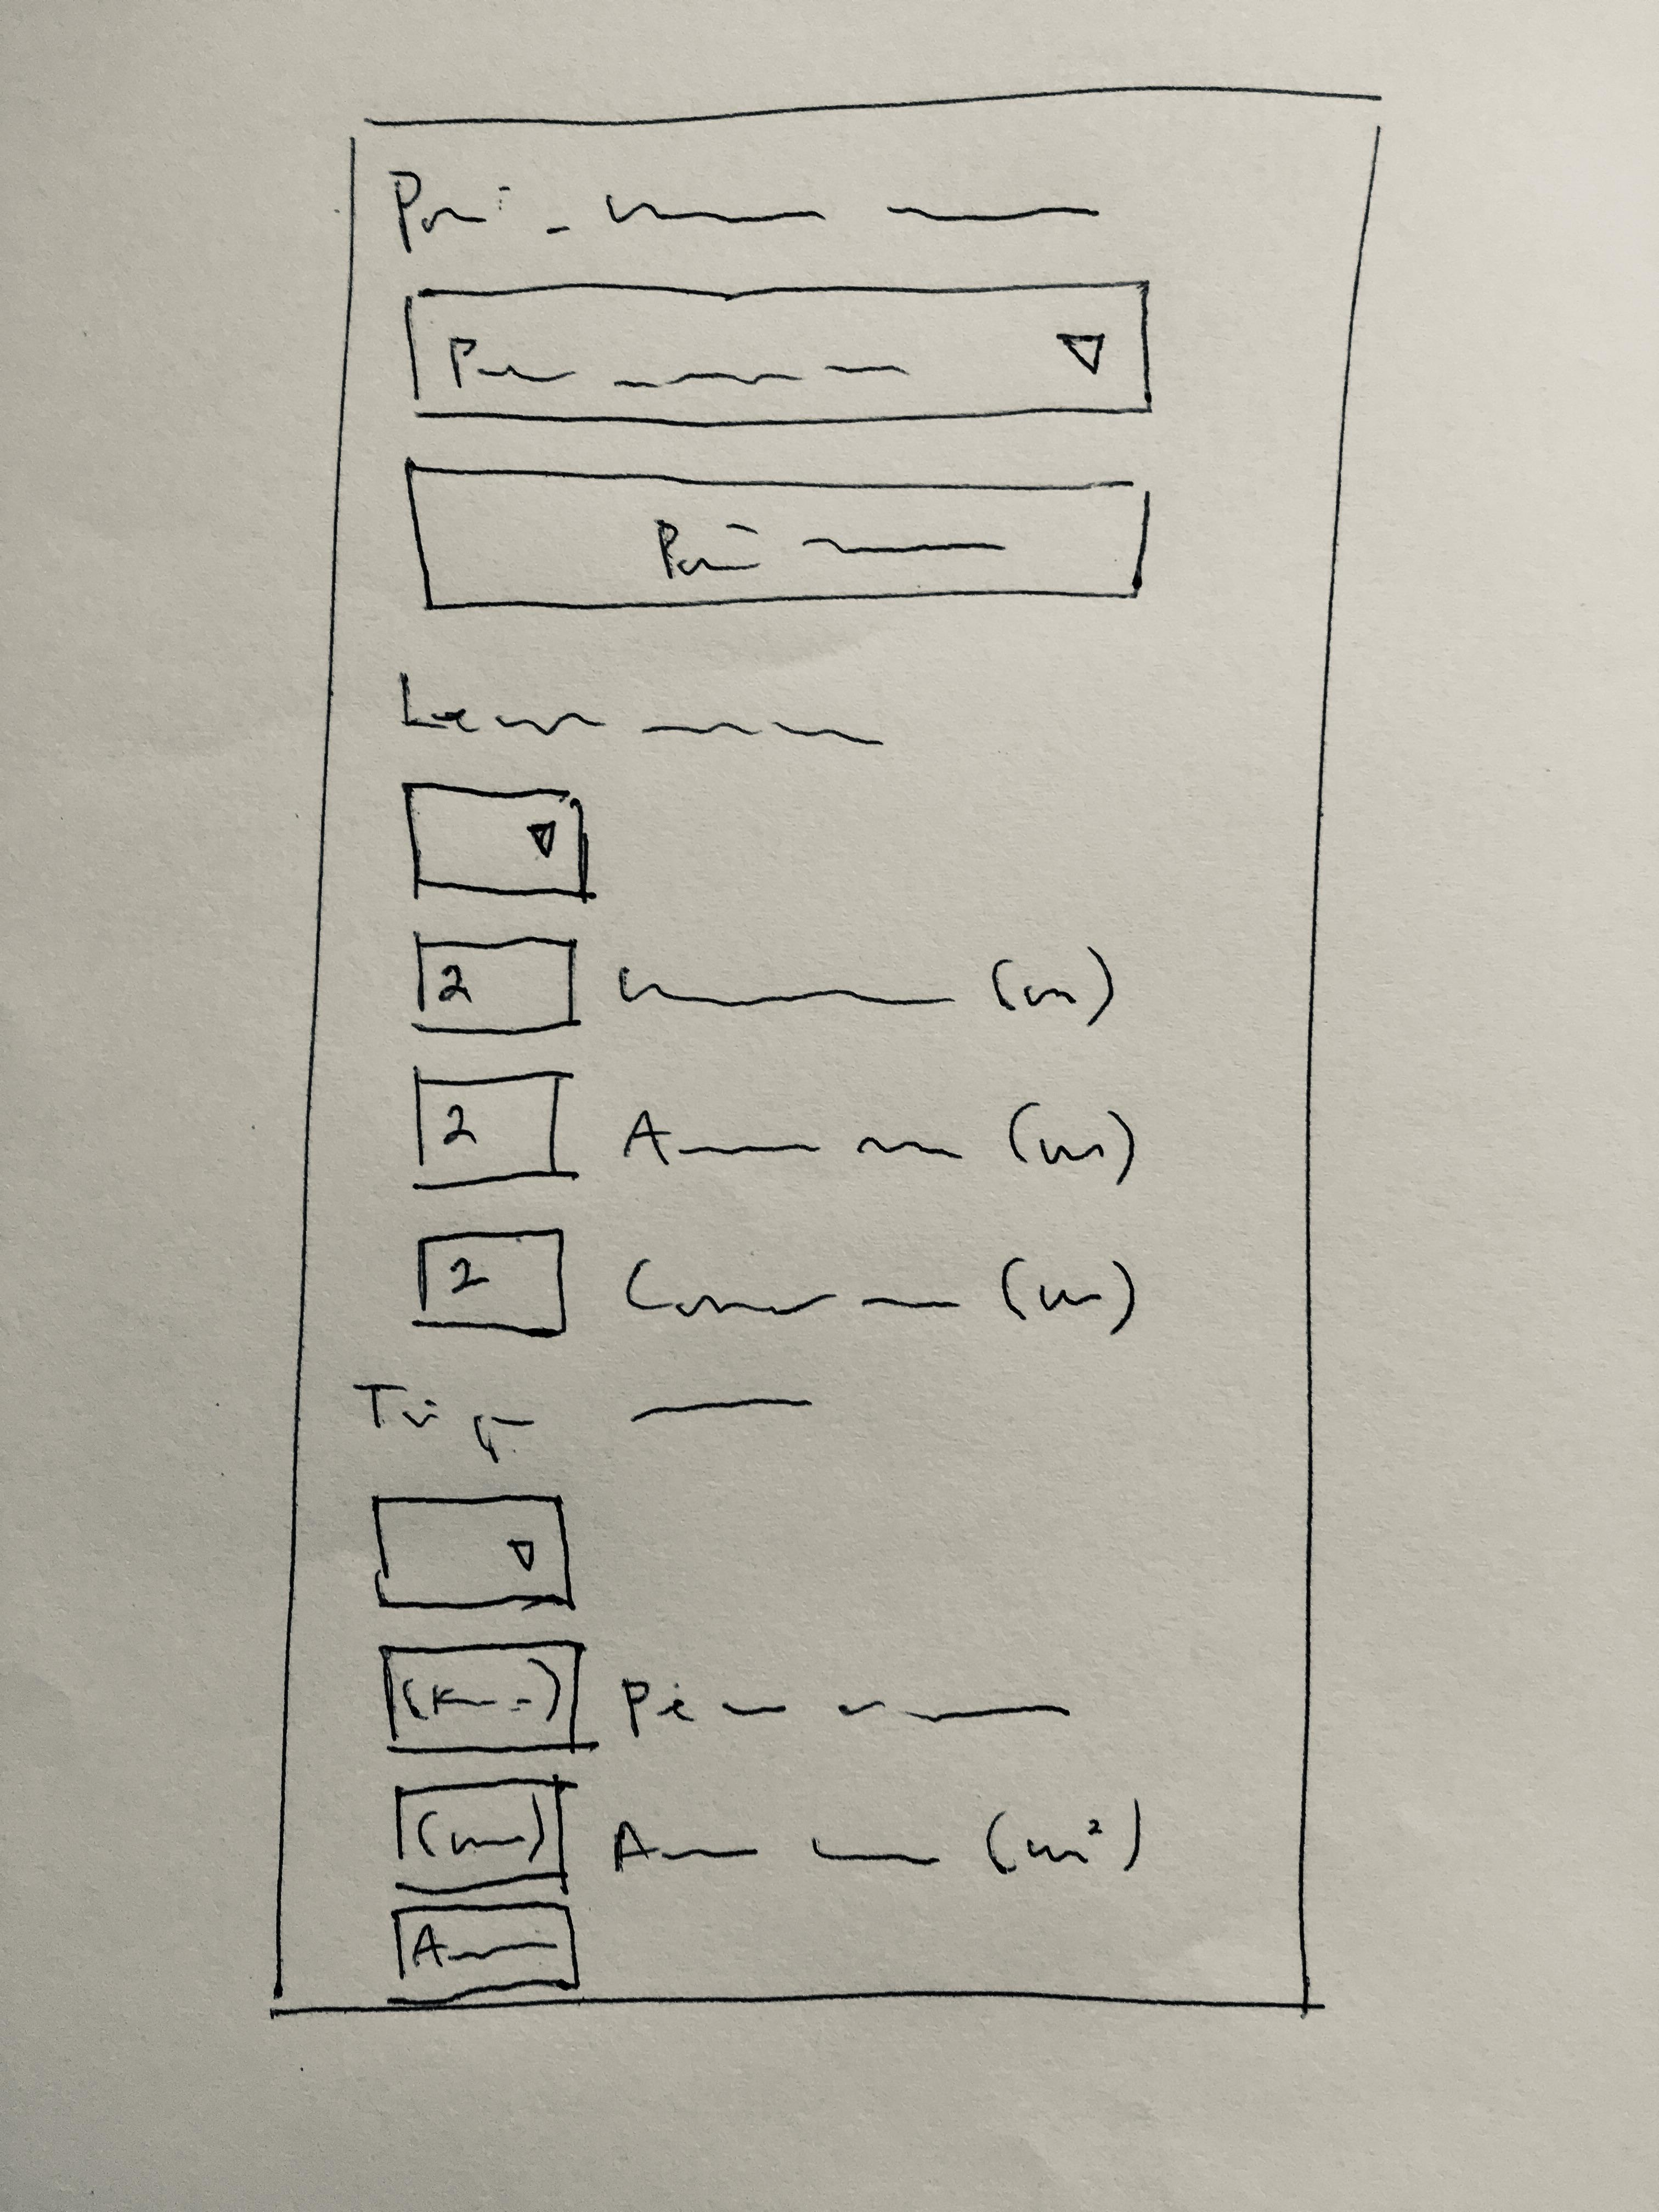Button: (404, 460, 1150, 613), (375, 1635, 587, 1752), (387, 1775, 570, 1893), (383, 1902, 579, 2006)
Label: (390, 167, 1105, 253), (619, 1101, 1134, 1190), (352, 1376, 821, 1467), (617, 942, 1114, 1028), (626, 1256, 1140, 1336), (613, 1797, 1145, 1874), (397, 671, 887, 749), (624, 1679, 1070, 1740)
ListPicker: (406, 284, 1154, 427), (371, 1491, 575, 1611), (399, 779, 587, 897)
Screen: (268, 89, 1384, 2019)
TextBox: (411, 1066, 577, 1190), (411, 1226, 568, 1338), (413, 935, 577, 1036)
